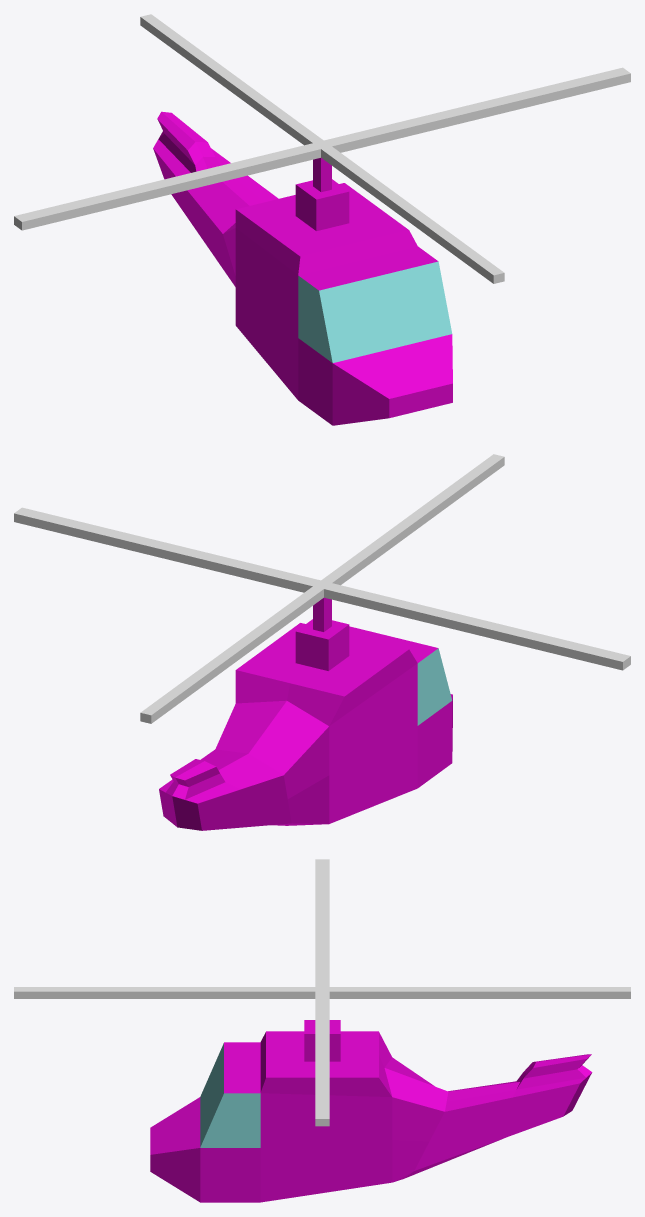
Rendered from lameheli.glb.
3 views of the same model, one above another, from view 1: azimuth 30°, elevation 25°; view 2: azimuth 150°, elevation 25°; view 3: azimuth 270°, elevation 25° (orthographic). The views are drawn at different scales.
Parts seen in each view (by area): view 1: Helicopter Body, Blades; view 2: Helicopter Body, Blades; view 3: Helicopter Body, Blades.
Boxes of the visible parts, x1,y1,x2,y2 form: Helicopter Body: (153, 111, 452, 425); Blades: (14, 14, 630, 283); Helicopter Body: (159, 597, 452, 830); Blades: (14, 454, 630, 723); Helicopter Body: (150, 1020, 592, 1202); Blades: (14, 859, 630, 1126).
Size of the model in its own units: 10.18 by 3.44 by 10.23.
